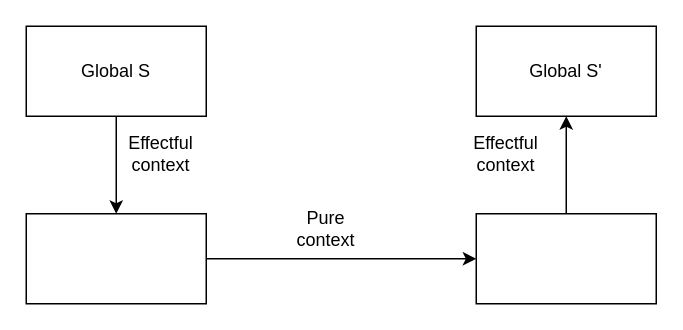
Some shapes in this 683 by 330 pixel diagram are drawn without their labels. Here are the shapes that lost their labels. From the top down, the box of each, then its label:
(25, 212, 206, 304): Local S
(475, 212, 656, 304): Local S'
